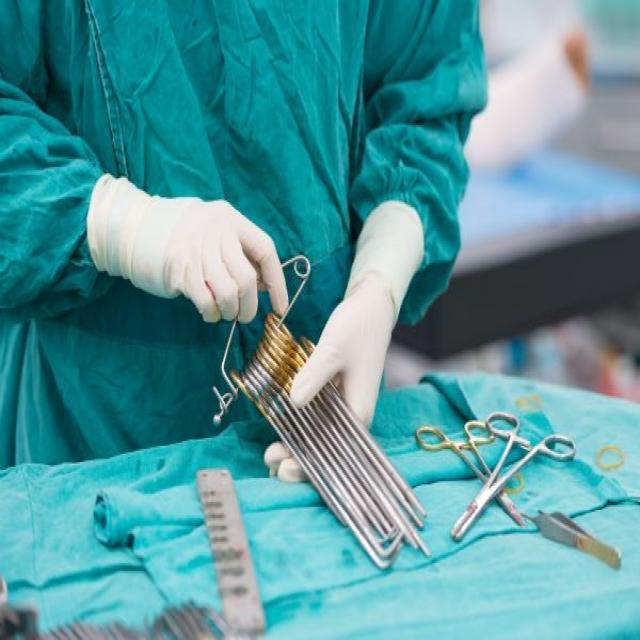tools_table: (0, 429, 639, 640)
